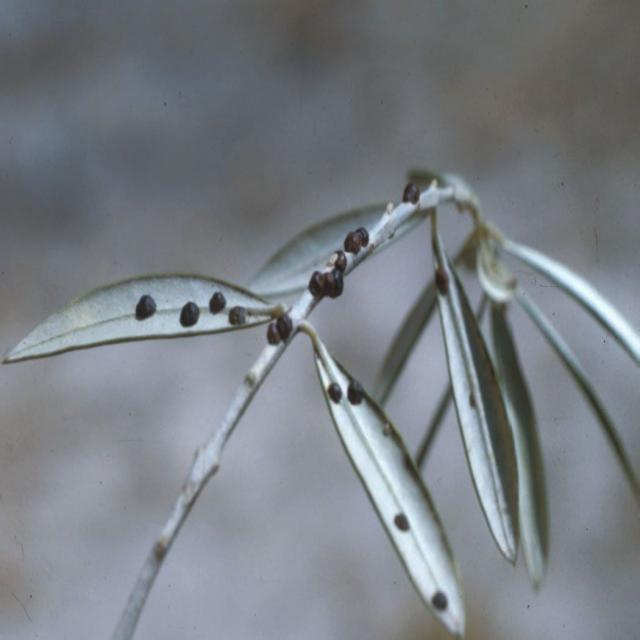BlackScale: (308, 251, 343, 300), (267, 313, 291, 347), (344, 228, 369, 255), (135, 294, 156, 320), (180, 301, 200, 328), (347, 380, 367, 406), (402, 184, 420, 208), (208, 292, 226, 314), (434, 264, 447, 294), (327, 382, 342, 404), (228, 308, 246, 326), (431, 590, 447, 610), (394, 517, 410, 531)
